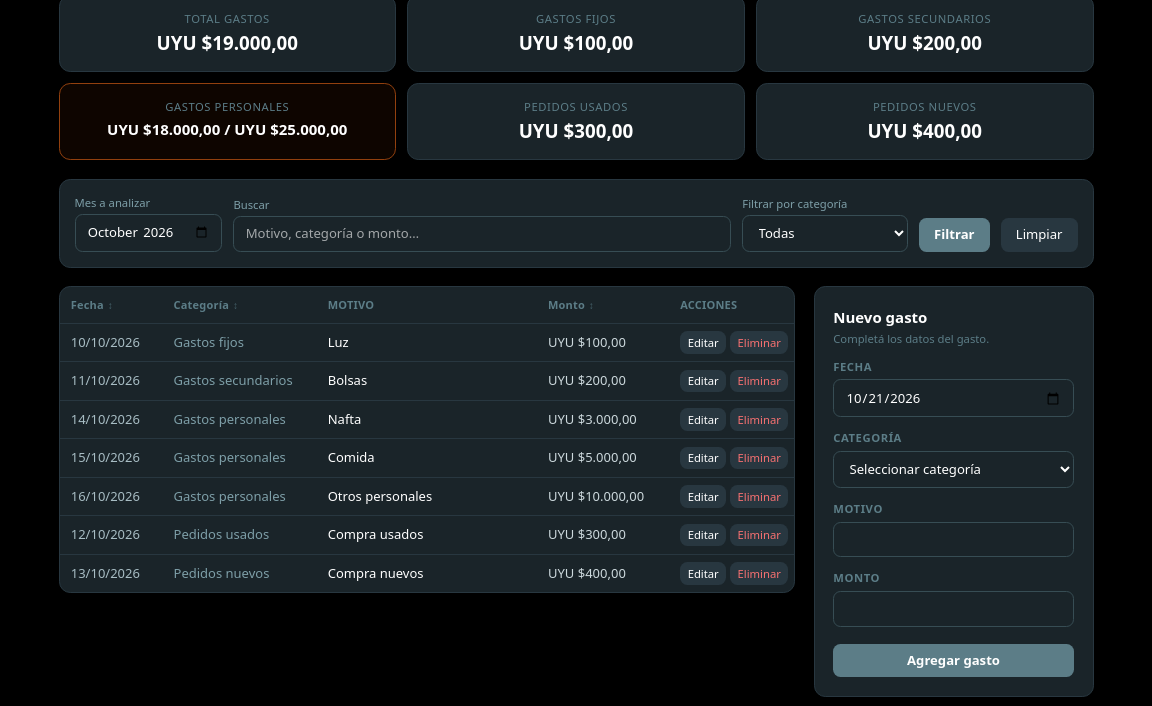
Test: GastosTienda › valida la categoría antes de enviar
The image size is (1152, 706).
(page scrolled)
Expected: the text "Luz" is shown, [328,333,349,351]
Step 1. Click the button "Agregar gasto" → (954, 660), box [833,644,1074,677]
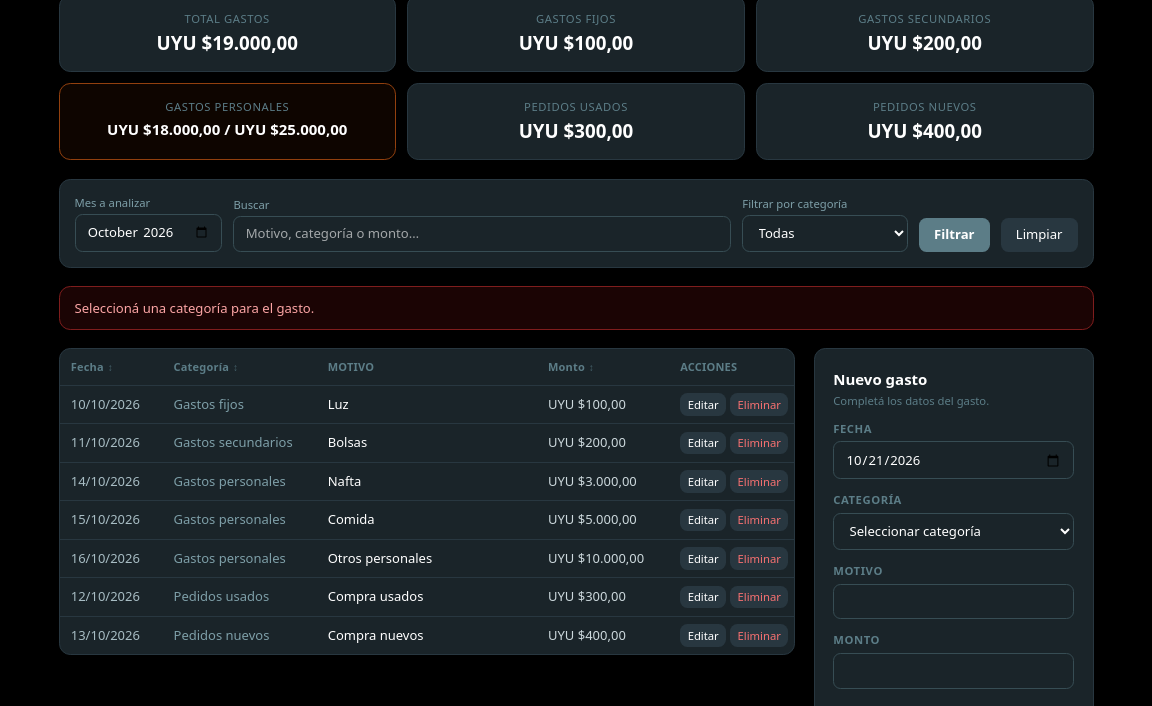
Expected: the message shows "Seleccioná una categoría", [74,299,314,317]
